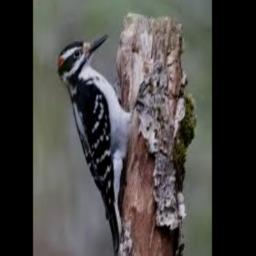Woodpecker: (58, 34, 133, 256)
